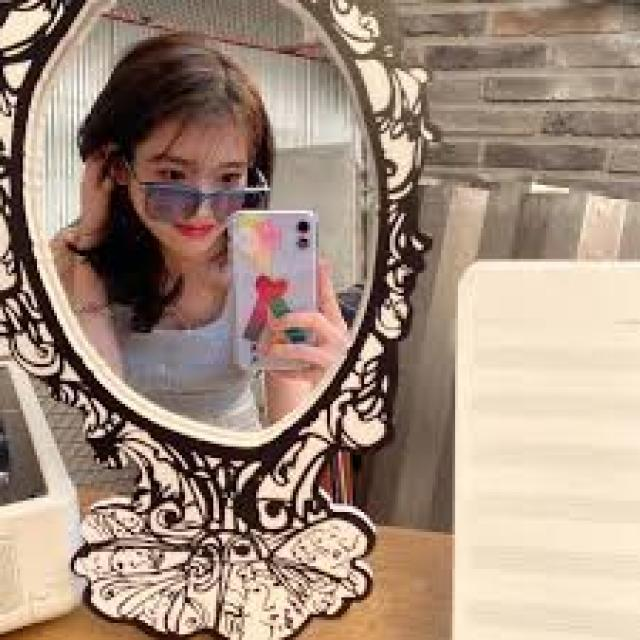Phone: (227, 208, 324, 376)
